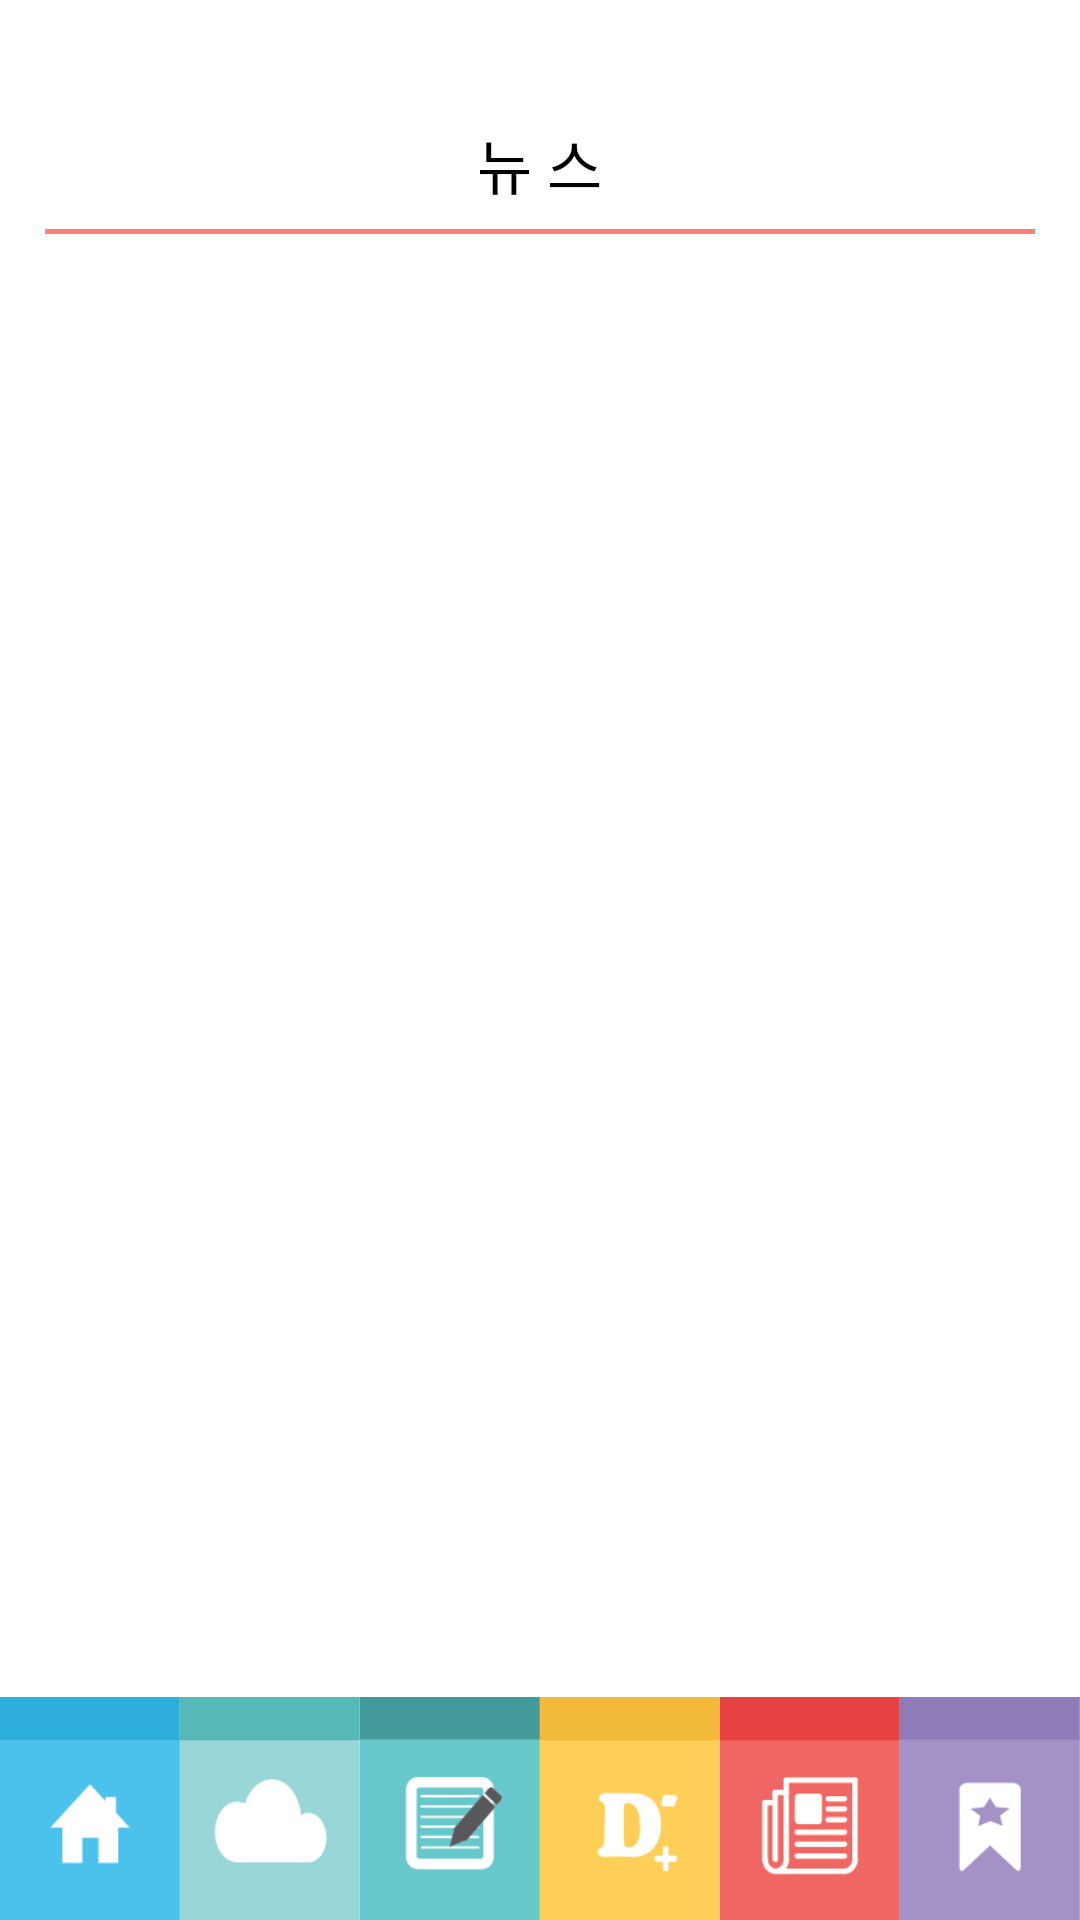

Icon click points for this 1080 x 1920 phone screenshot, format (x,y):
bookmark: (990,1808)
dday: (630,1808)
mainbtn: (90,1808)
memo: (450,1808)
news: (810,1808)
